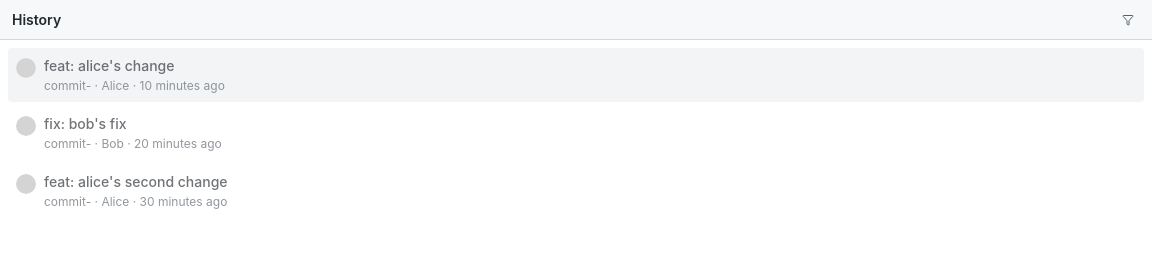
Test: Sidebar › author filter › groups recent contributors ahead of older contributors
The image size is (1152, 276).
Expected: the text "feat: alice's change" is shown, [44,57,174,74]
Click the button with test id "author-filter-button".
click(1128, 20)  # box [1116,12,1140,28]
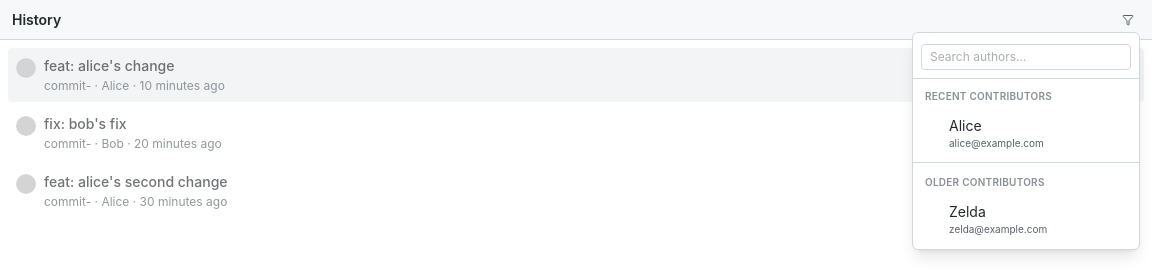
Expected: the text "Recent contributors" is shown, [925,90,1052,102]
Expected: the text "Older contributors" is shown, [925,176,1045,188]
